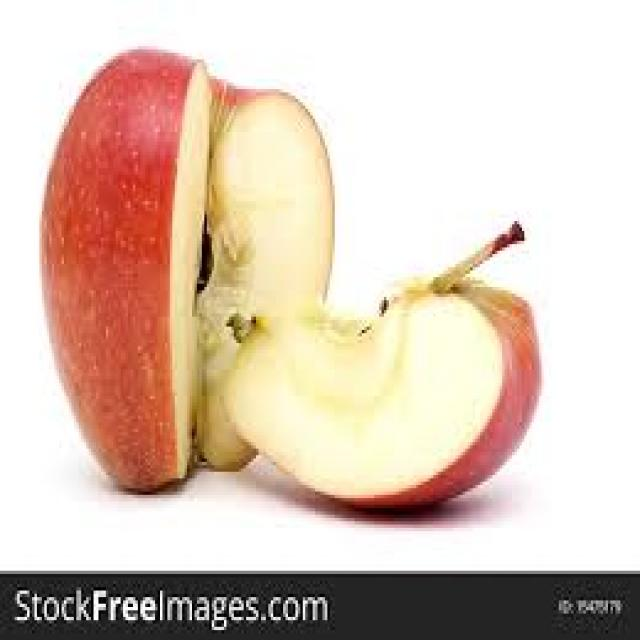Apple: (37, 48, 332, 488), (238, 235, 548, 518)
